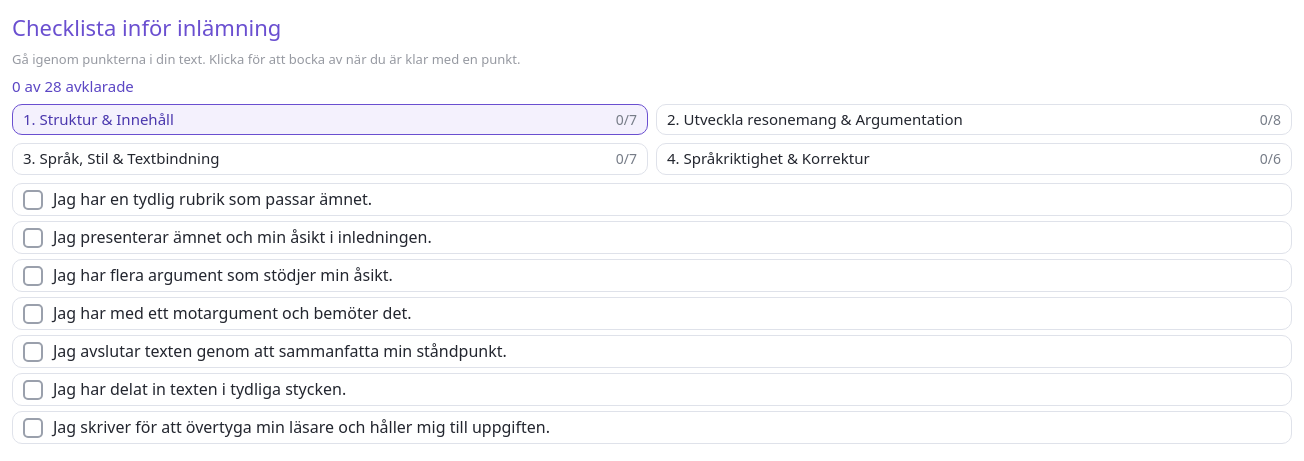
Test: checklist before the final diagnosis › lets the student tick off and untick points, one part of the list at a time
The width and height of the screenshot is (1304, 461).
Check: the message reads "0 av 28 avklarade", box x1=12 y1=76 x2=134 y2=96
Click the button "Jag har en tydlig rubrik som passar ämnet.": (213, 198) x1=12 y1=182 x2=1292 y2=216
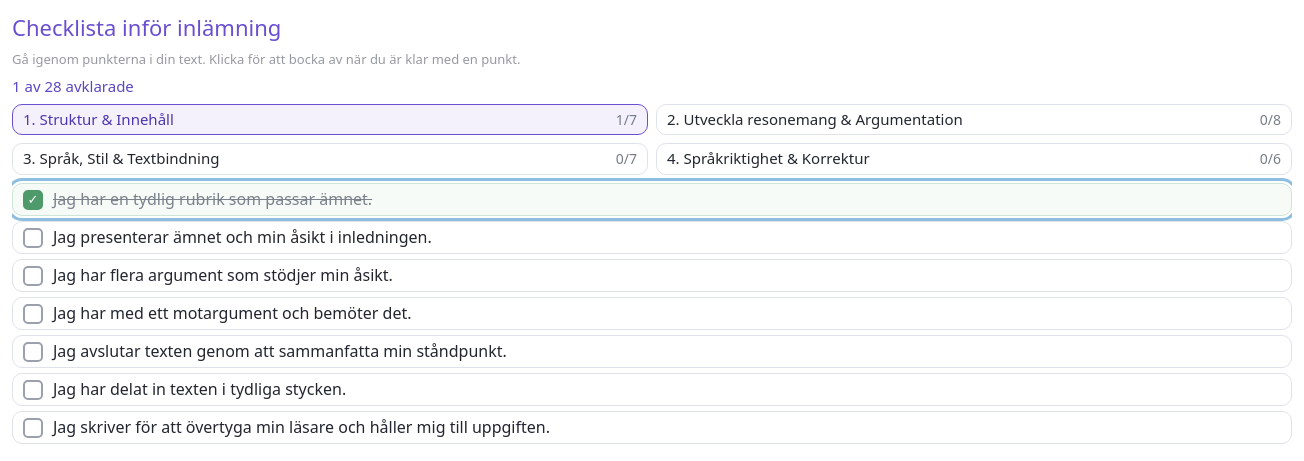
Check: the message reads "1 av 28 avklarade", box x1=12 y1=76 x2=134 y2=96
Check: the button "1. Struktur & Innehåll 1/7" is shown, box x1=12 y1=104 x2=648 y2=135
Note: The other parts are opened one at a time, and what is ticked off stays ticked.
Click the button "4. Språkriktighet & Korrektur 0/6": (768, 158) x1=656 y1=143 x2=1292 y2=175
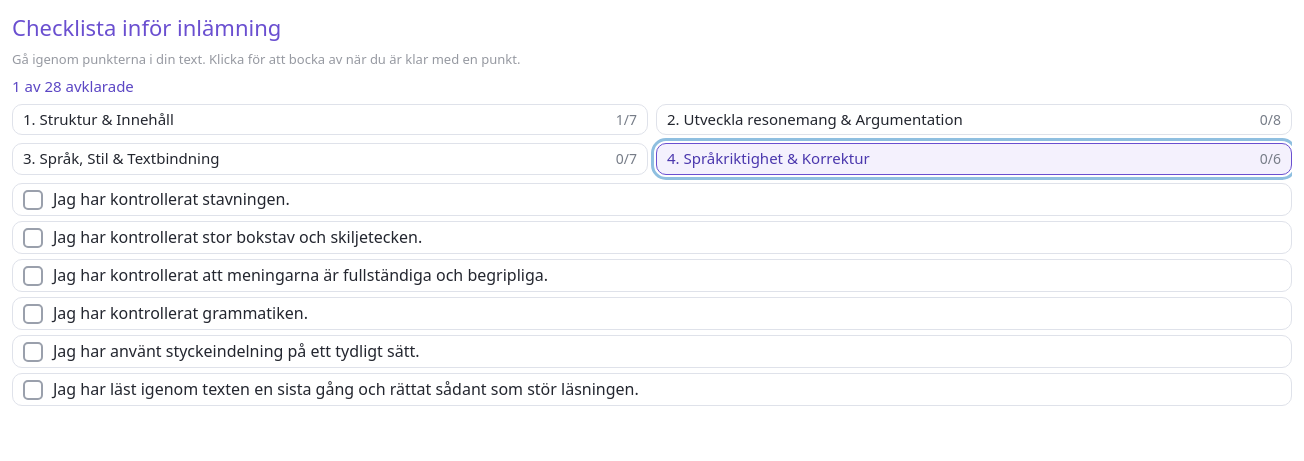
Check: the list named "4. Språkriktighet & Korrektur" is shown, box x1=12 y1=182 x2=1292 y2=406
Click the button "1. Struktur & Innehåll 1/7": (98, 119) x1=12 y1=104 x2=648 y2=135
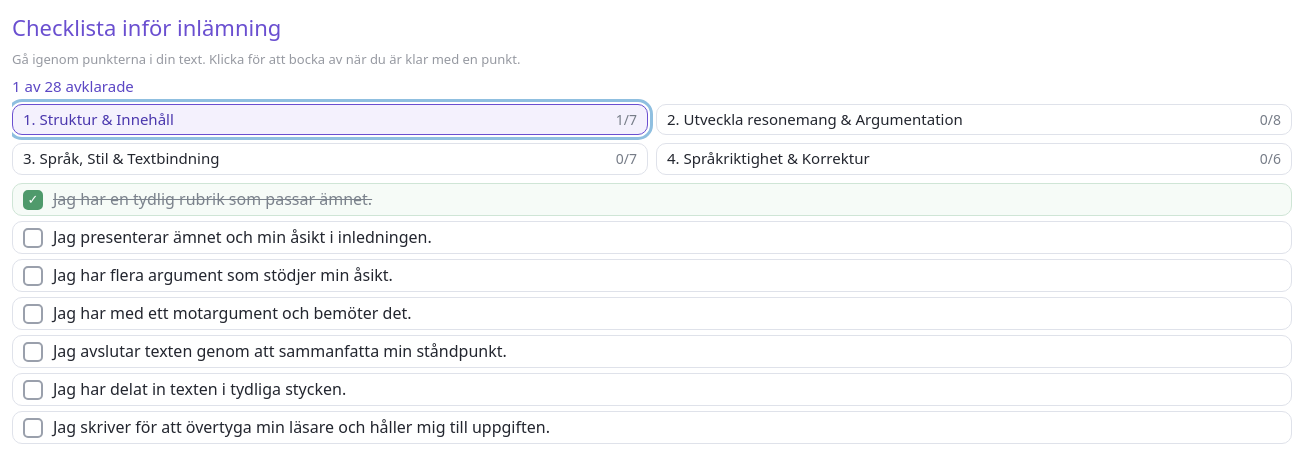
Check: the button "Jag har en tydlig rubrik som passar ämnet." is pressed
Click the button "Jag har en tydlig rubrik som passar ämnet.": (213, 198) x1=12 y1=182 x2=1292 y2=216
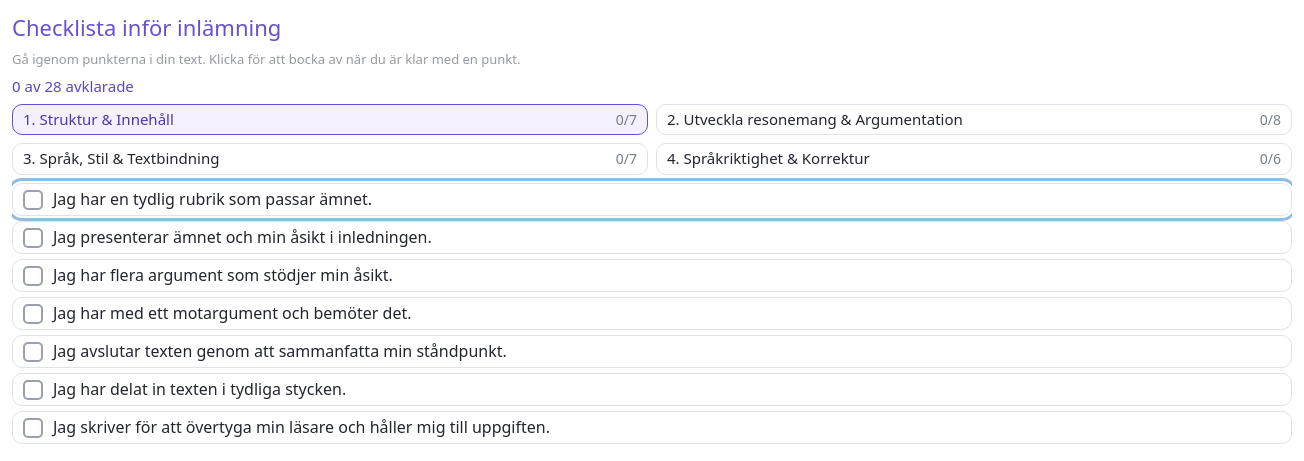
Check: the message reads "0 av 28 avklarade", box x1=12 y1=76 x2=134 y2=96
